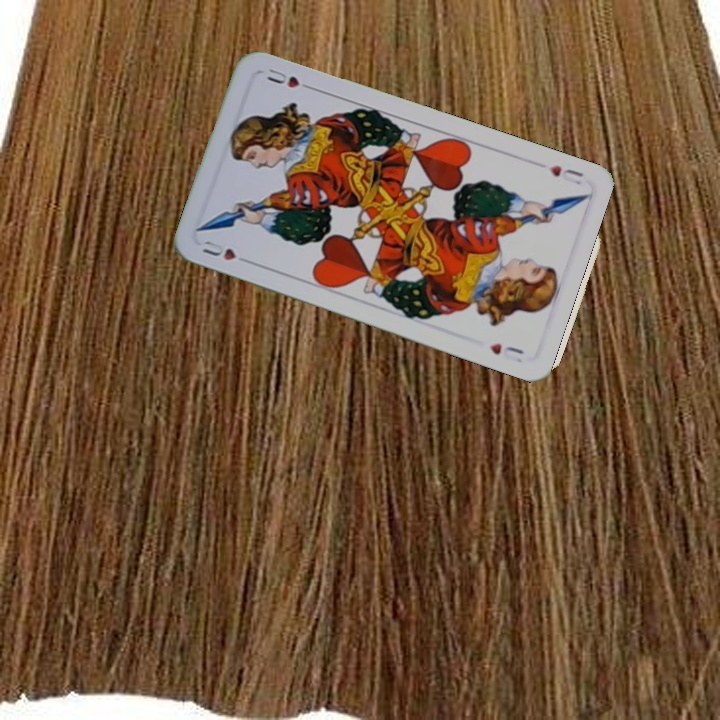HU: (198, 236, 254, 264), (545, 161, 586, 188)
